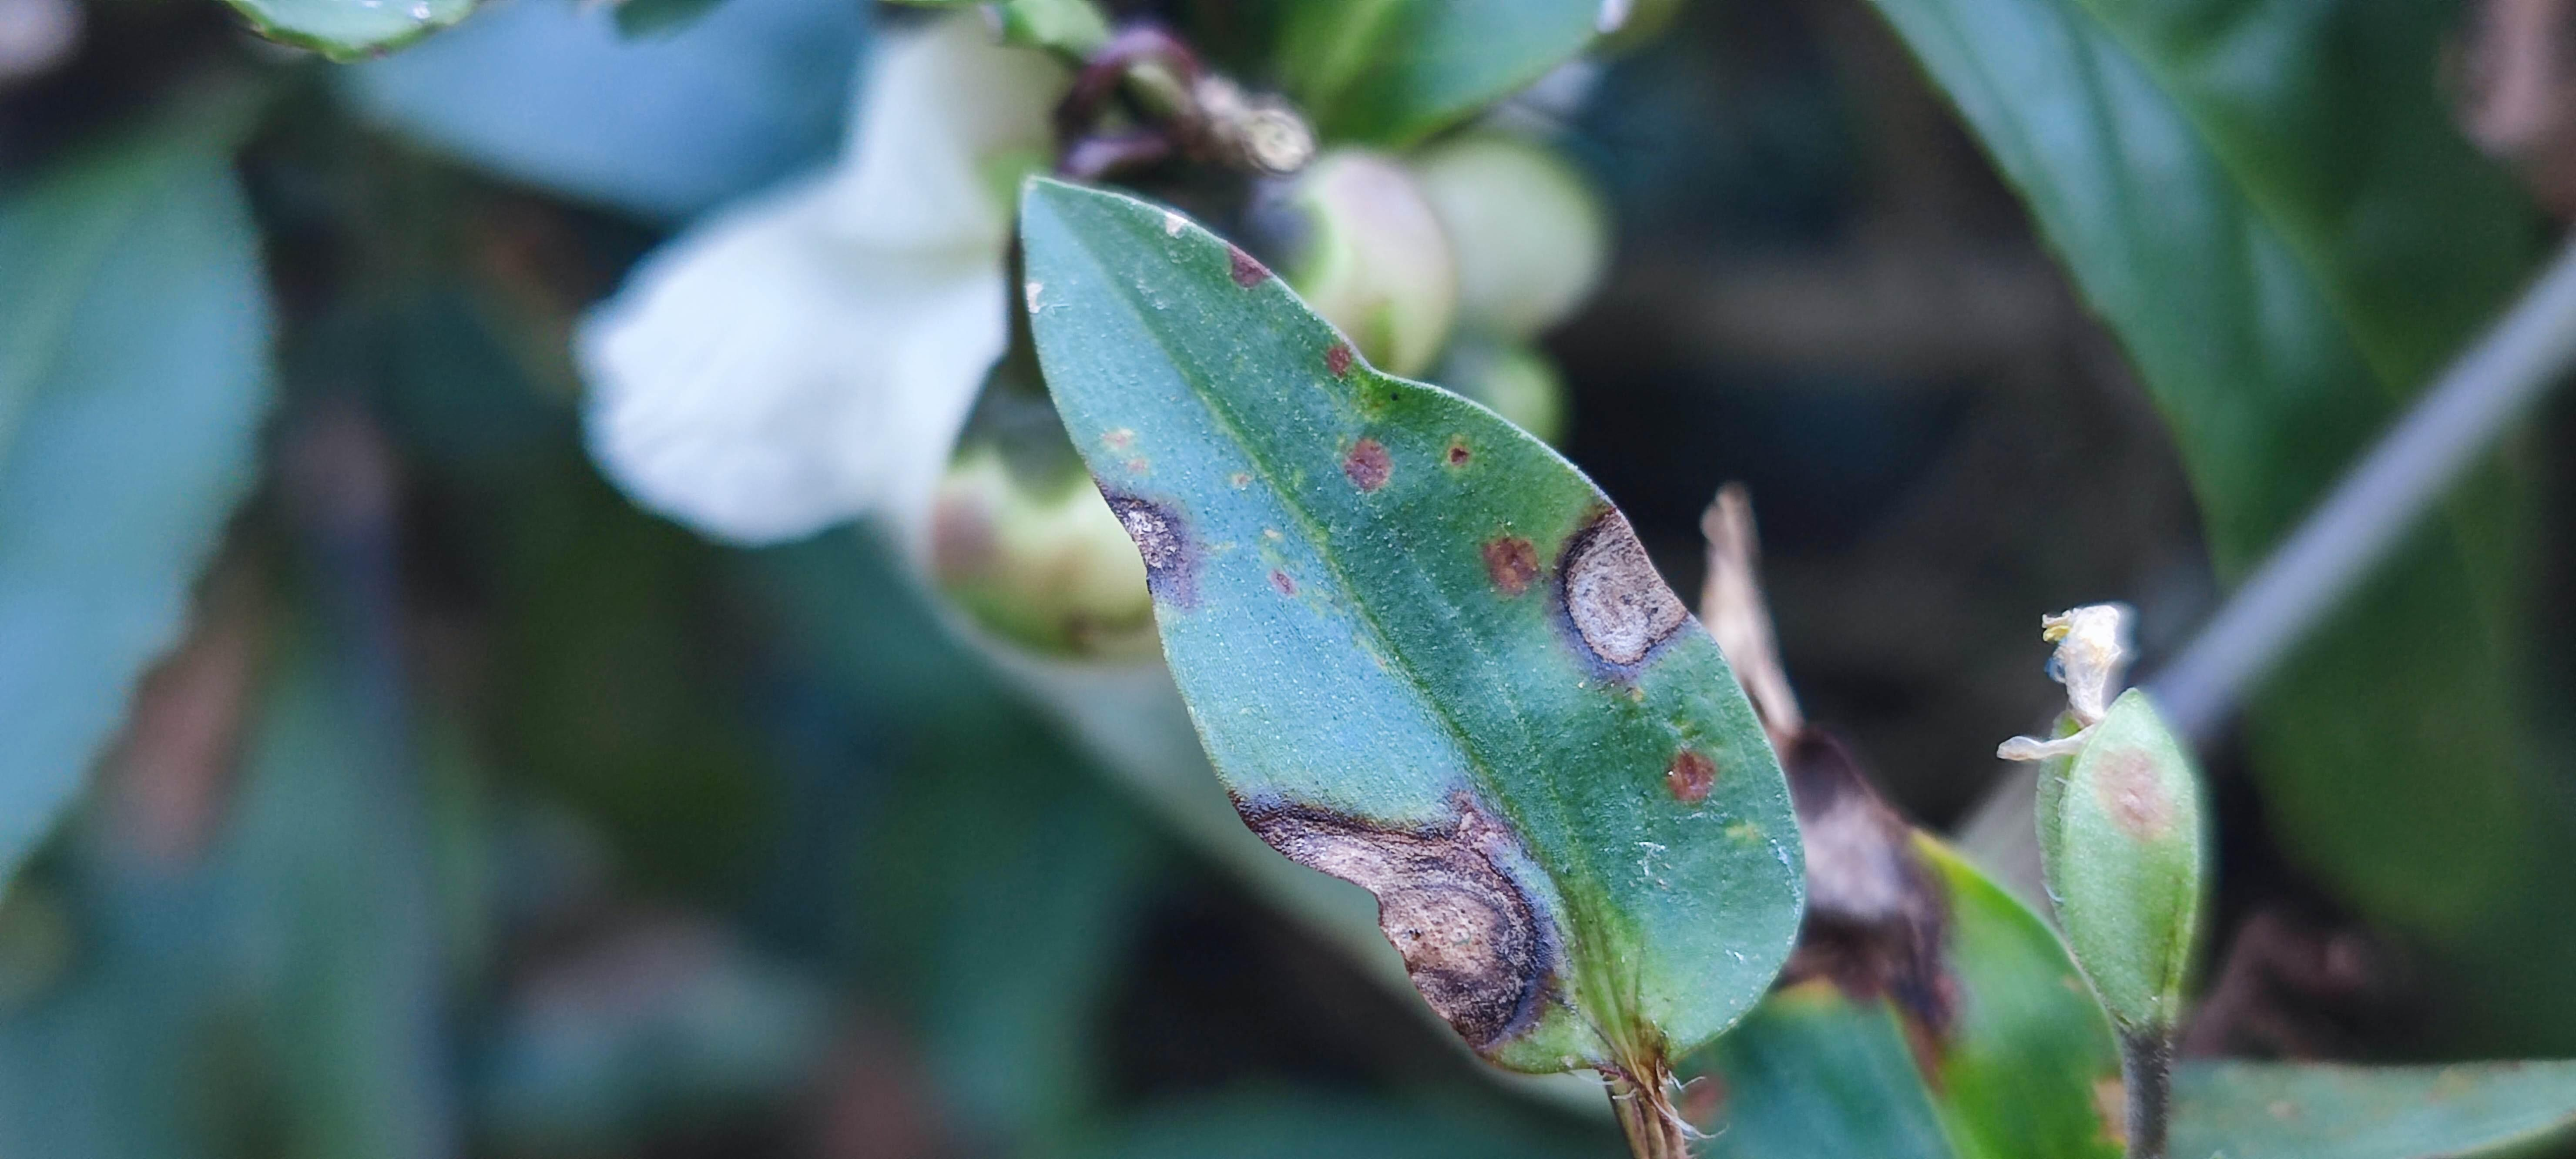tanju_high: (1009, 171, 1814, 1083), (1687, 478, 2136, 1154)
